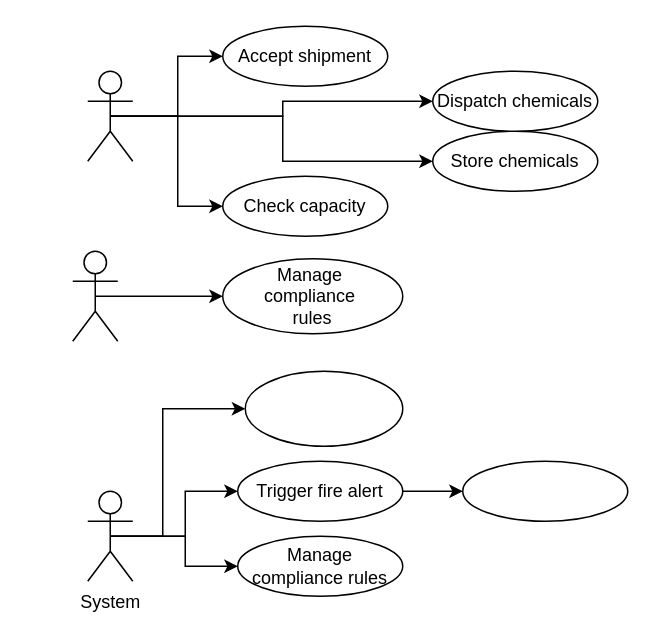
This 654x639 diagram has some shape labels left out. Each missing label, with the centre of its shape:
Compliance team: the point at 94,295
Provide audit reports: the point at 323,408
Up to date inventory: the point at 544,490
Warehouse staff: the point at 109,115
